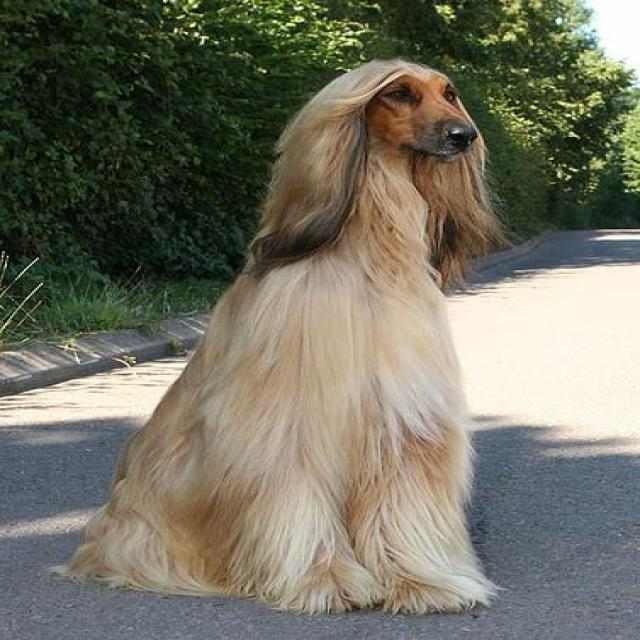afghan_hound: (53, 55, 492, 618)
